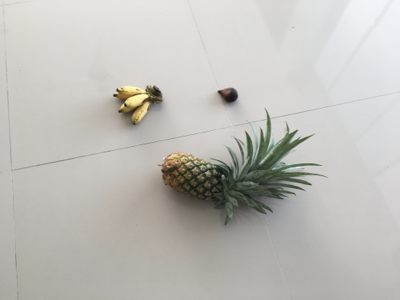banana: (113, 85, 164, 127)
pineapple: (161, 112, 324, 225)
snake fruit: (217, 88, 239, 103)
